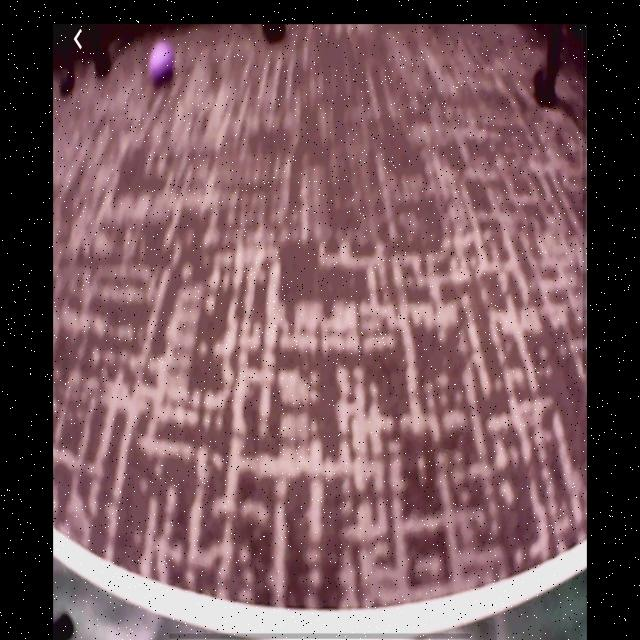ball: (151, 40, 175, 84)
